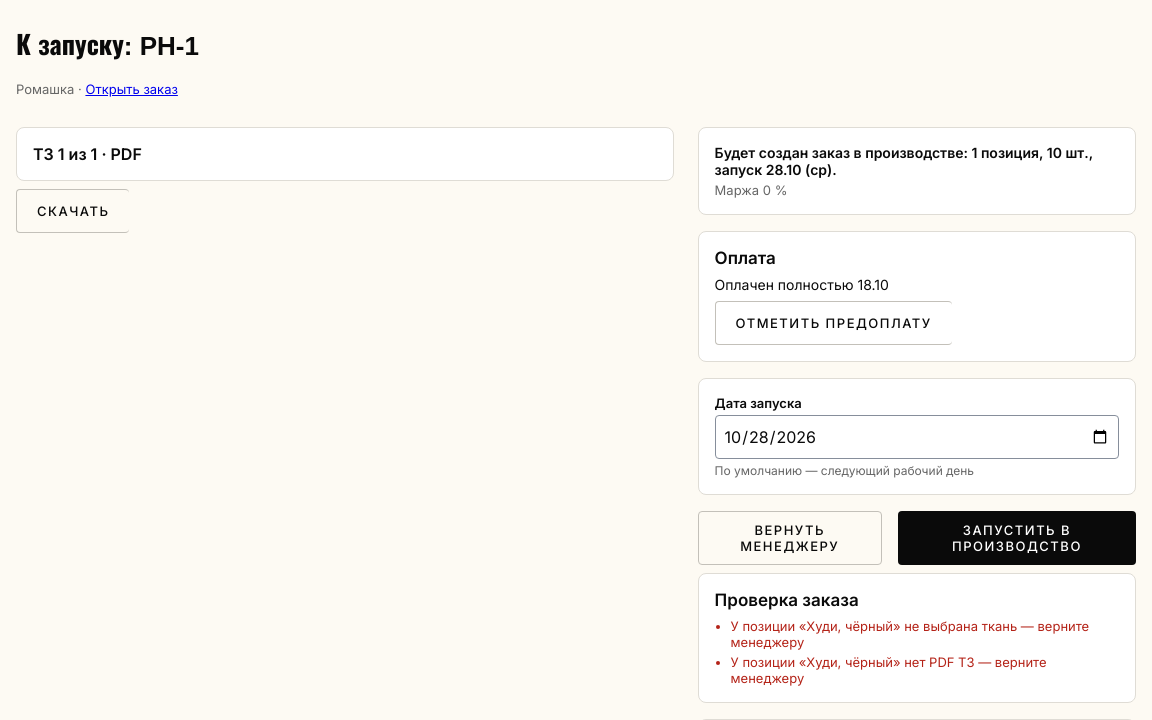
LaunchScreen › отмена возврата — фокус на «Вернуть менеджеру»
This screenshot has width=1152, height=720.
Click the button "Вернуть менеджеру" at x=790, y=538, box [698, 511, 882, 565]
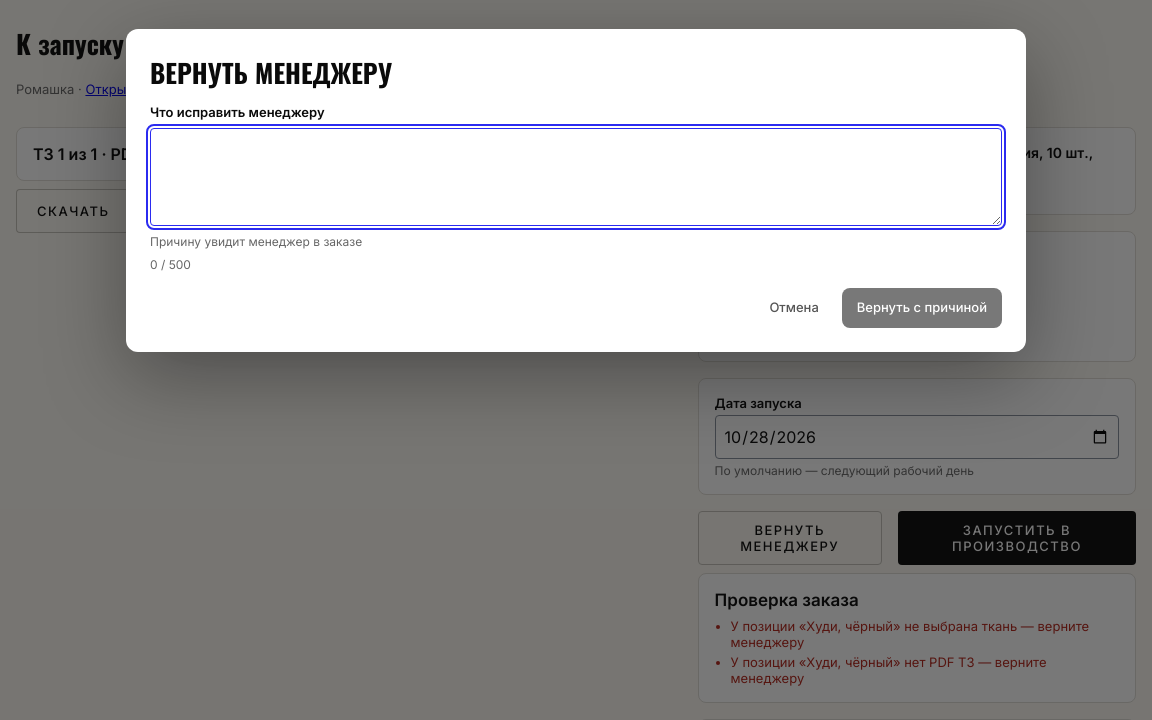
Click the button "Отмена" at x=794, y=308, box [754, 288, 834, 328]
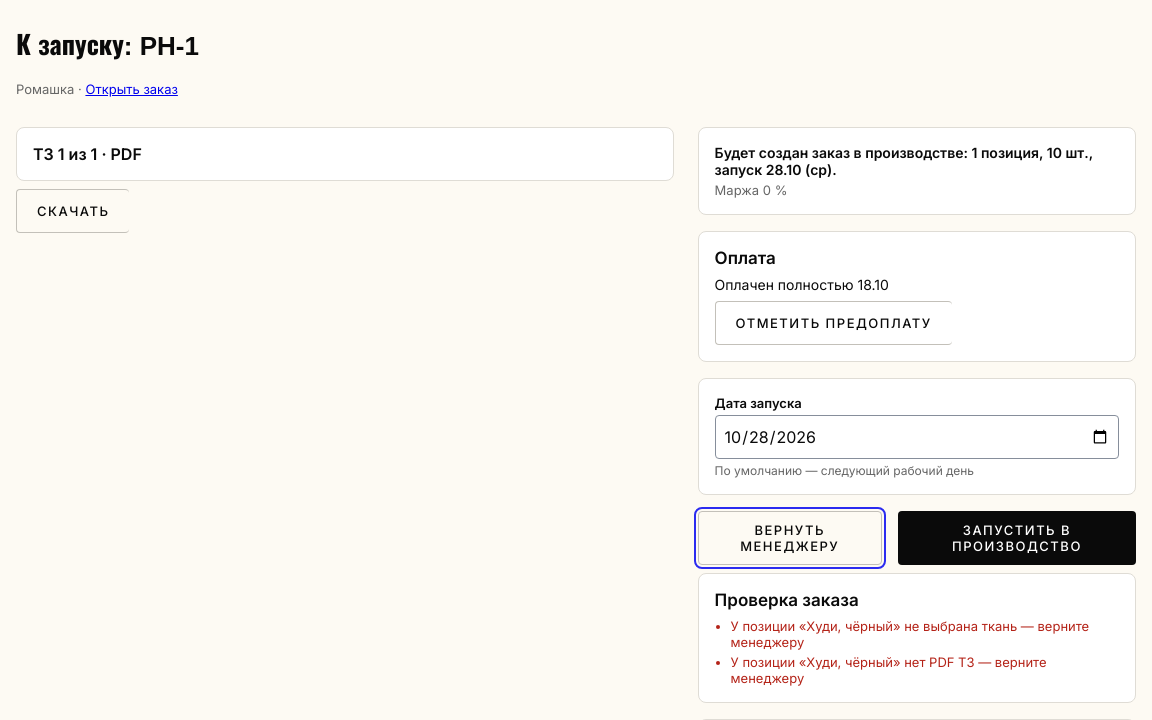
Result: the dialog is gone
